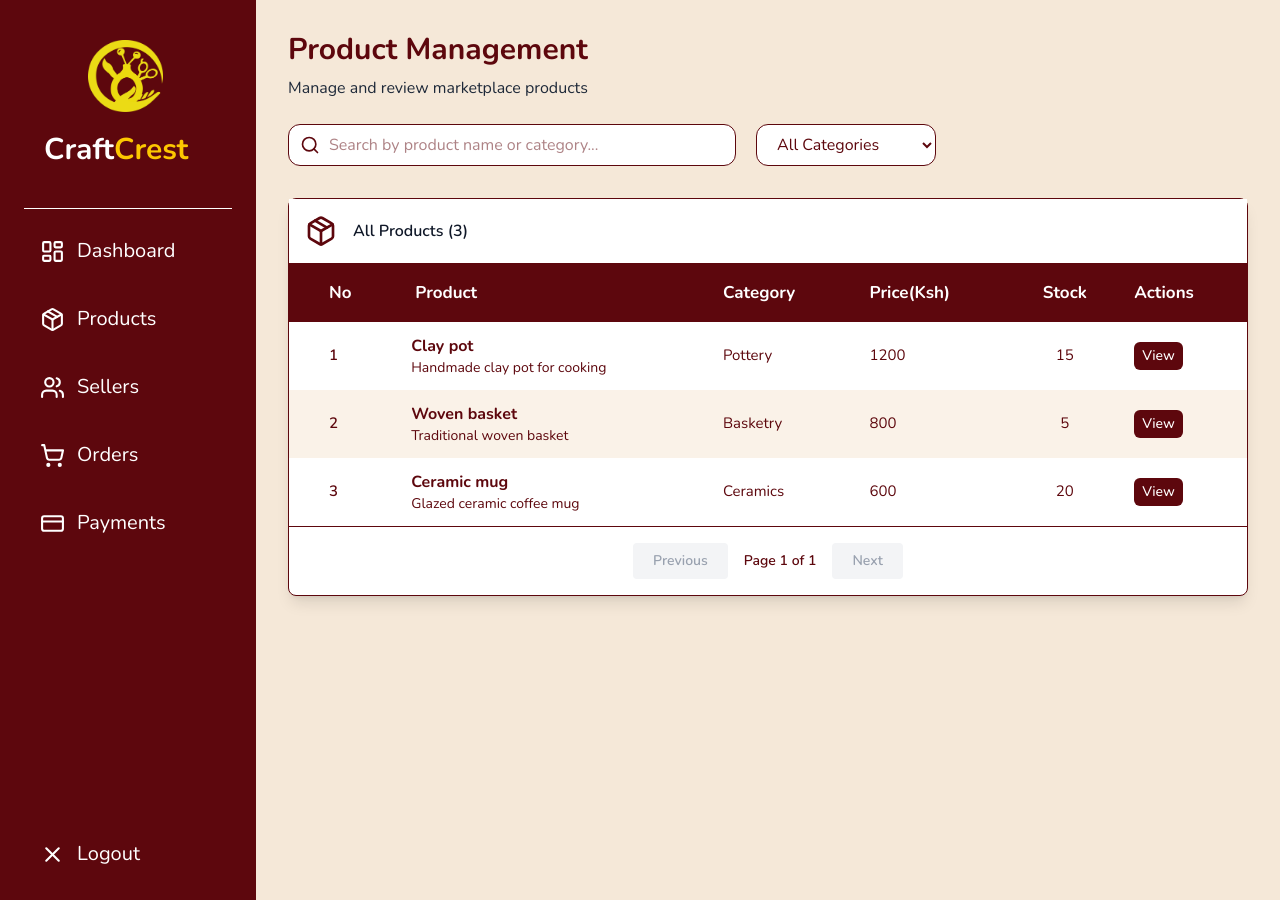
Scenario: ProductManagement › filters products by search term
This screenshot has width=1280, height=900.
Type "basket" into the field with placeholder "Search by product name or category...".
click(512, 145); type("basket")  # box left=288, top=124, right=736, bottom=166
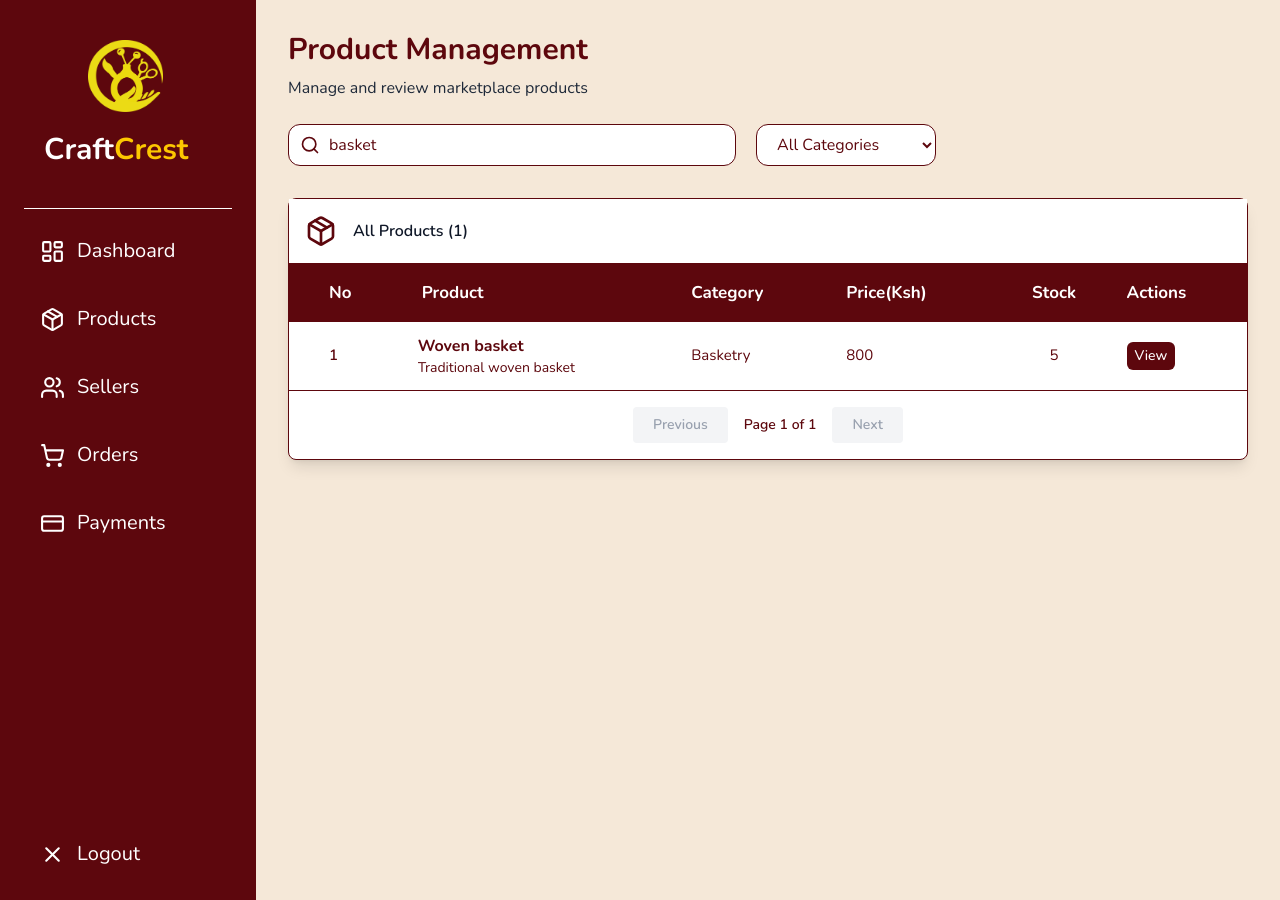
Check: the text "Woven basket" is shown, box left=418, top=334, right=524, bottom=356
Check: the heading "All Products (1)" is shown, box left=353, top=219, right=468, bottom=243
Check: the text "Clay pot" is gone
